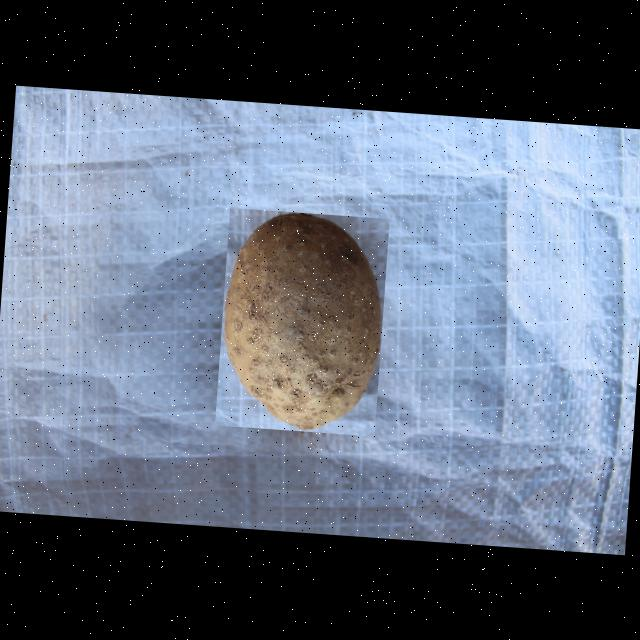Diseased-fungal potato: (214, 207, 390, 436)
